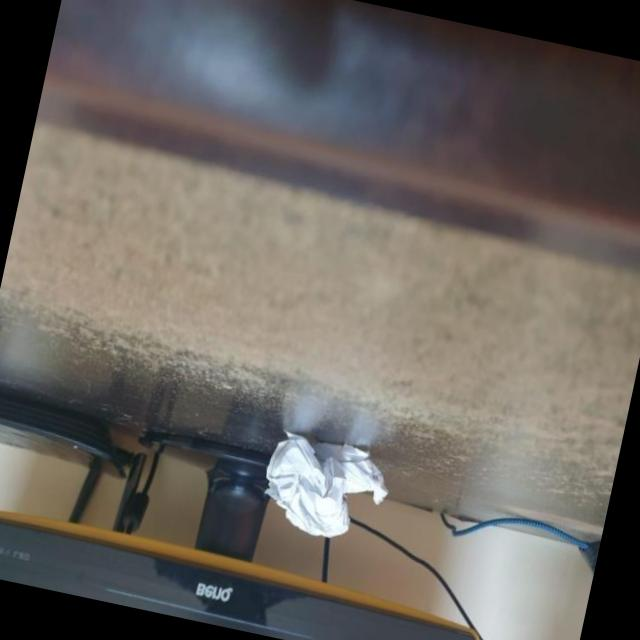cardboard paper: (264, 434, 385, 538)
